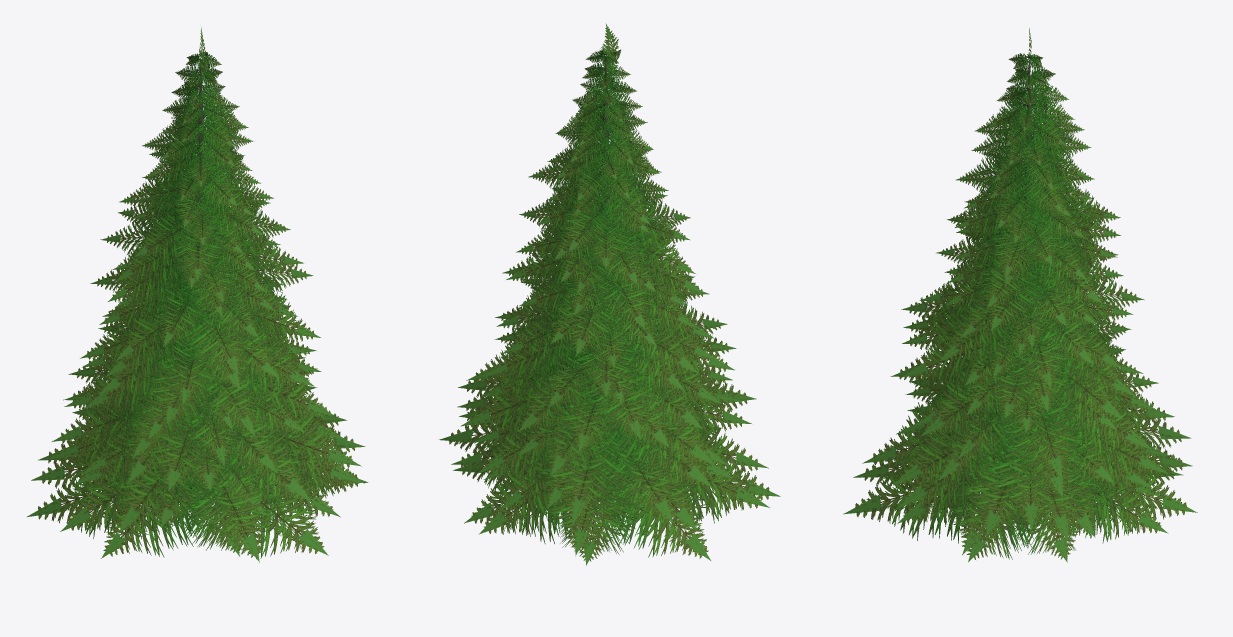
Rendered from fir_lod0.glb.
3 renders of one model, left to right at view 1: azimuth 30°, elevation 25°; view 2: azimuth 150°, elevation 25°; view 3: azimuth 270°, elevation 25°, orthographic.
Parts seen in each view (by area): view 1: fir; view 2: fir; view 3: fir.
Part boxes in pixels (box(x1,y1,x2,y2)): fir: box(27, 27, 368, 562); fir: box(439, 24, 780, 565); fir: box(843, 28, 1197, 562).
Size of the model in its own units: 13.84 by 21.76 by 14.28.
2 materials, 2 textured.
